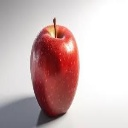apple: (29, 18, 80, 117)
